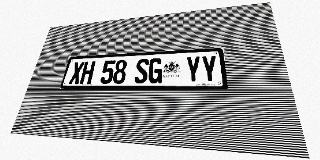5: (100, 60, 116, 84)
8: (112, 59, 128, 84)
G: (148, 58, 163, 83)
H: (79, 61, 96, 84)
S: (134, 58, 149, 83)
X: (68, 62, 85, 84)
Y: (201, 55, 218, 83), (186, 56, 201, 83)
